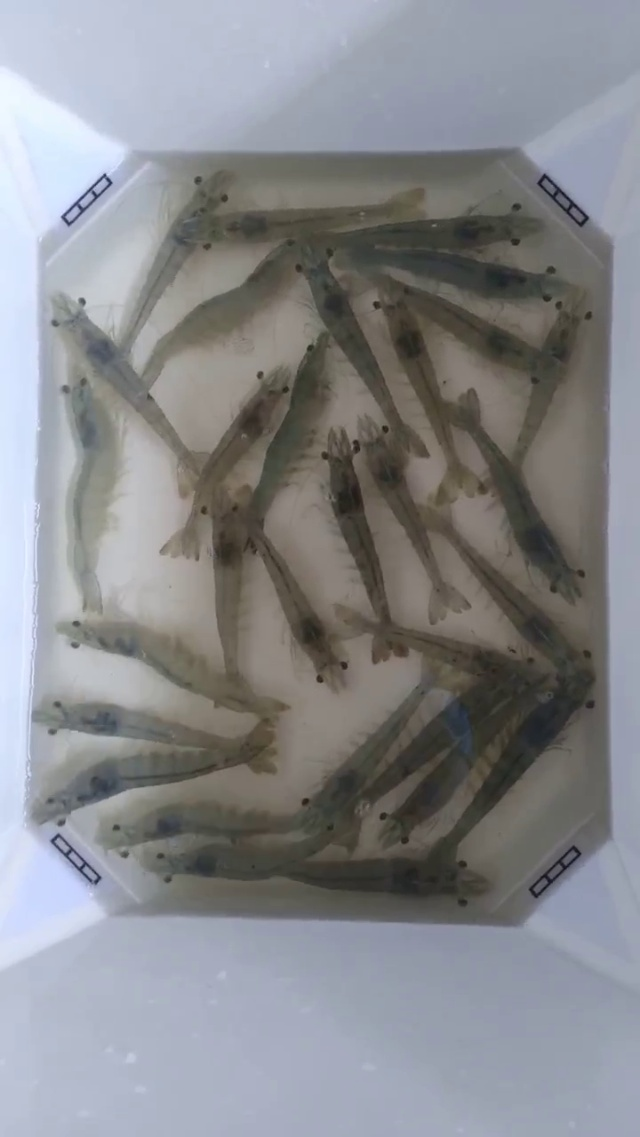shrimp: (546, 408, 639, 733), (580, 143, 639, 539), (0, 135, 122, 315), (161, 435, 254, 665), (320, 688, 425, 891), (0, 765, 100, 954), (0, 605, 87, 806), (580, 498, 639, 790), (81, 320, 196, 468), (220, 175, 336, 313), (134, 170, 232, 327), (160, 407, 260, 559), (459, 149, 558, 295), (329, 192, 436, 318), (424, 511, 515, 655), (137, 783, 238, 912), (421, 791, 513, 922), (60, 373, 123, 559), (205, 339, 292, 471), (354, 361, 428, 514), (0, 189, 38, 469), (277, 579, 346, 706), (334, 570, 420, 663)
